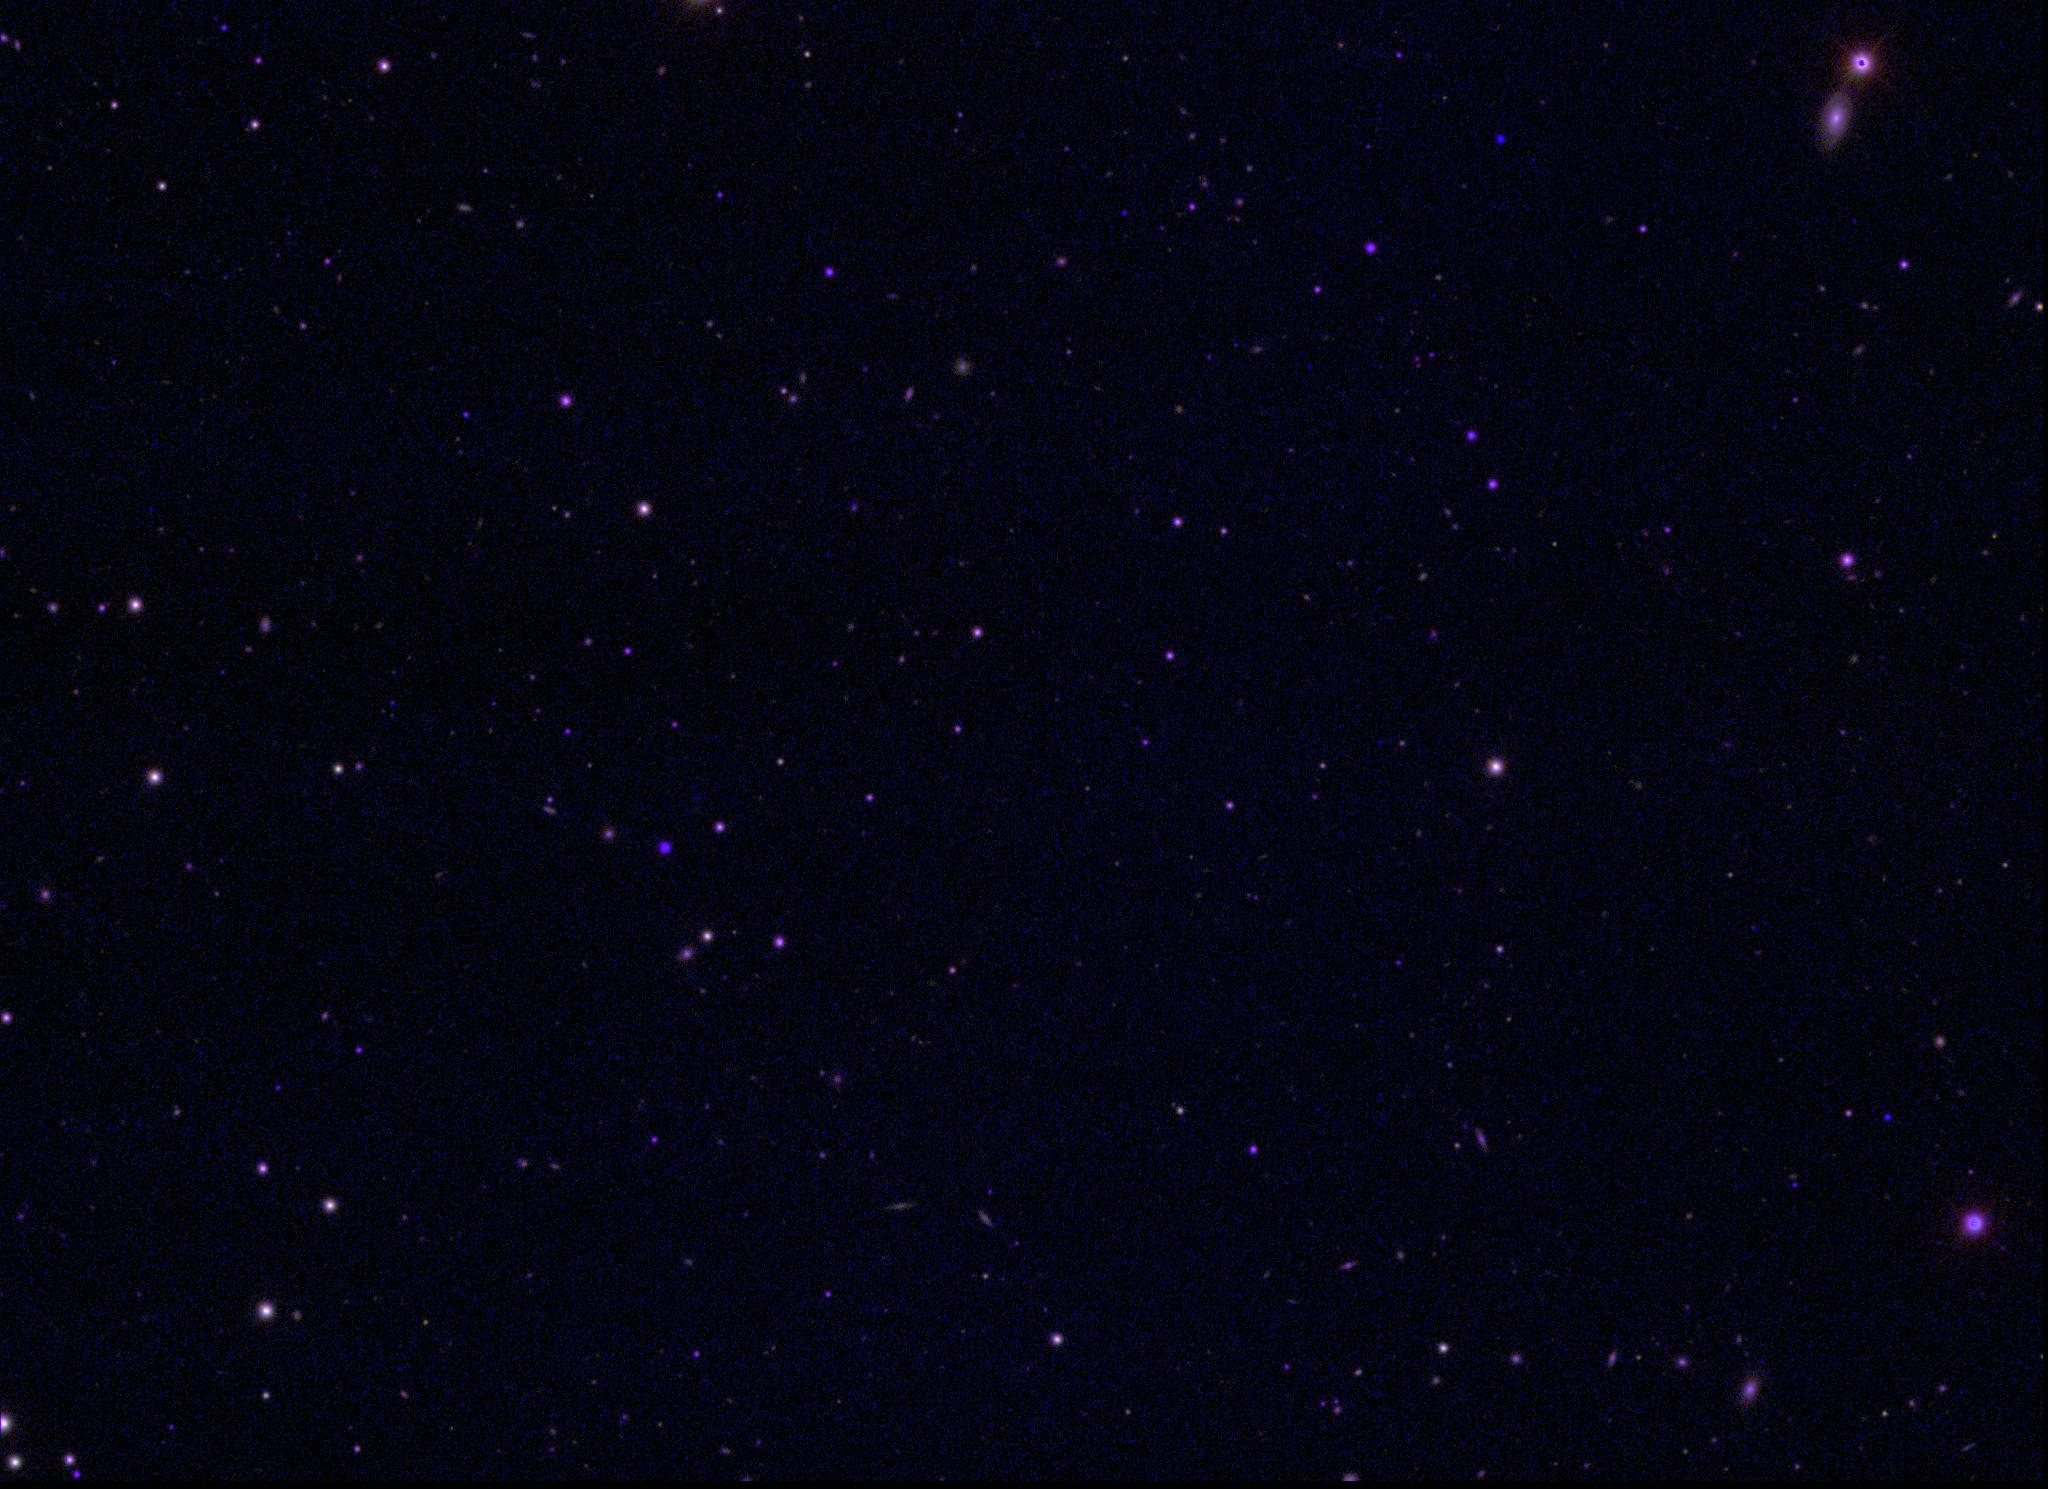L: (1493, 130, 1507, 145)
